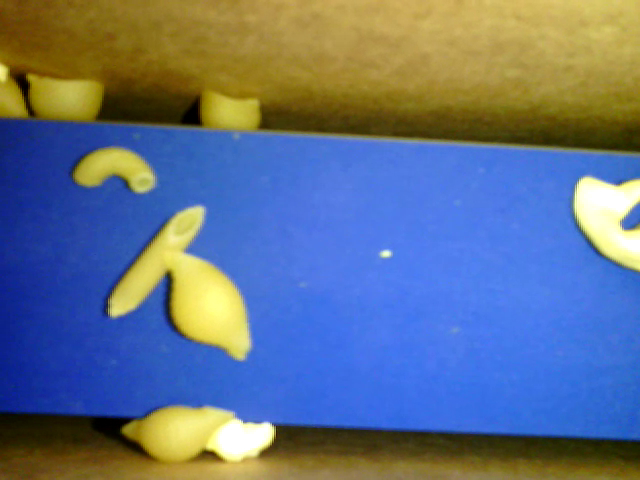elbow: (71, 144, 155, 194)
penne: (105, 203, 205, 322)
shell: (162, 248, 251, 361), (120, 405, 235, 460), (26, 73, 103, 120), (200, 88, 261, 129)
tortellini: (571, 175, 639, 270)
